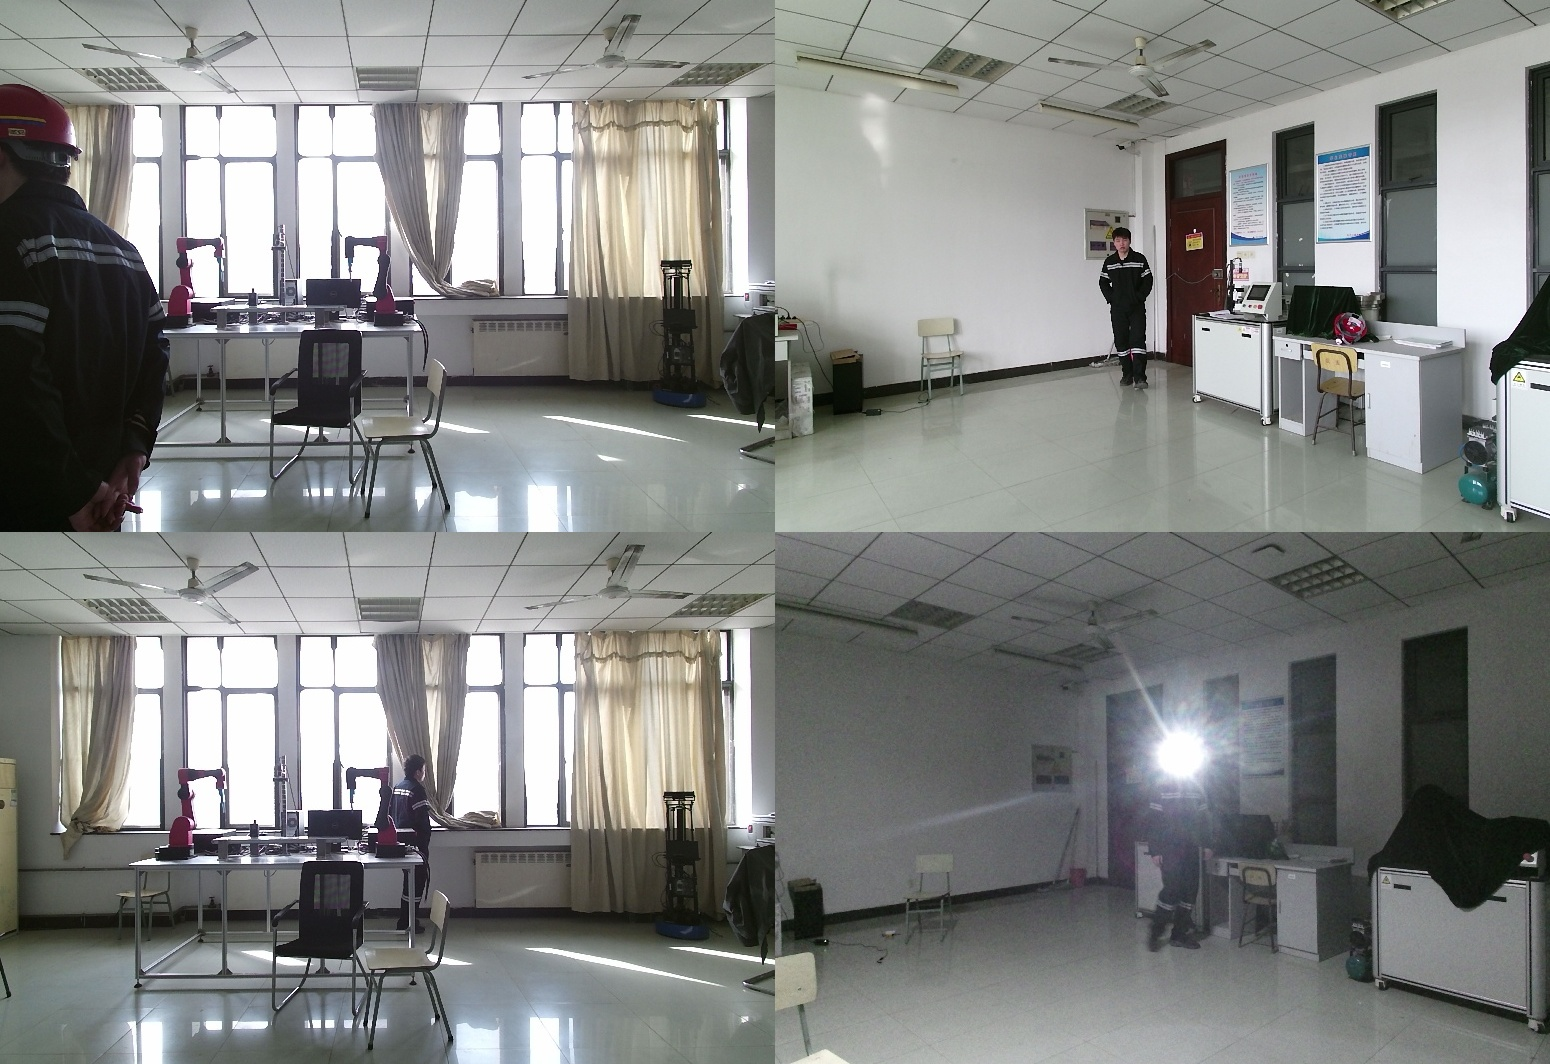person: (1, 83, 168, 532), (1134, 745, 1212, 959), (1097, 229, 1158, 391), (394, 754, 440, 945)
